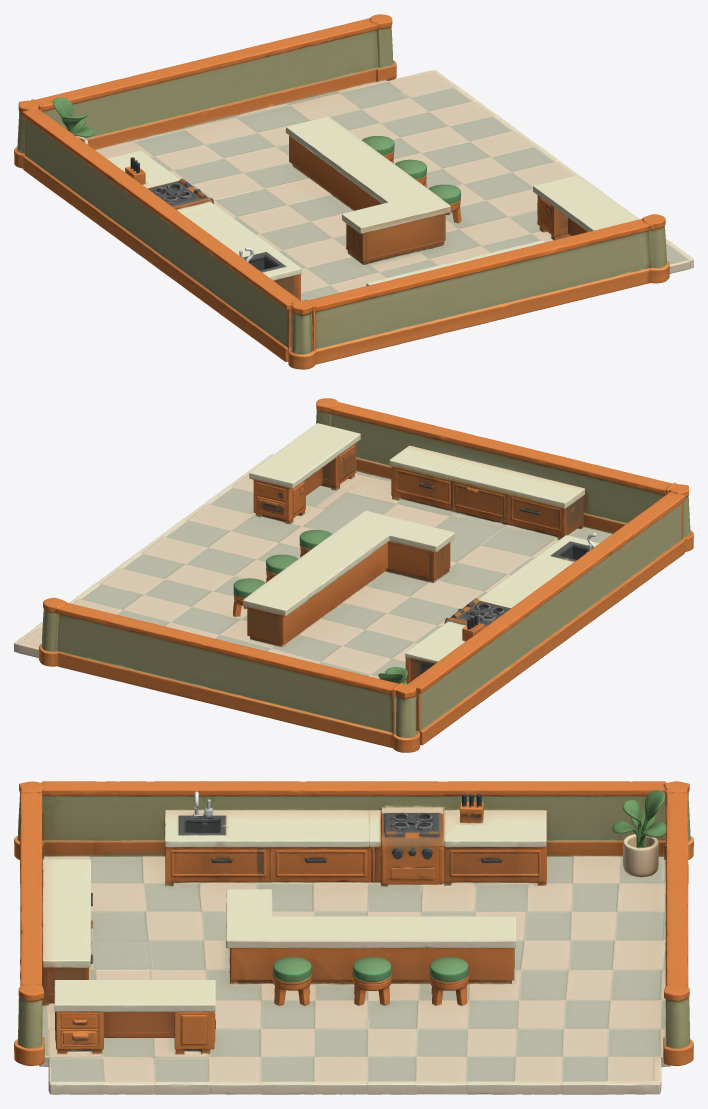
File: sushi-room-v10-fixtures-v1.glb
3 renders of one model, top to bottom at view 1: azimuth 30°, elevation 25°; view 2: azimuth 150°, elevation 25°; view 3: azimuth 270°, elevation 25°, orthographic. The views are drawn at different scales.
Visible parts, largest first — view 1: tripo_node_baa46c4d-e804-4763-b705-cc7467c62be8; view 2: tripo_node_baa46c4d-e804-4763-b705-cc7467c62be8; view 3: tripo_node_baa46c4d-e804-4763-b705-cc7467c62be8.
Part boxes in pixels (box(x1,y1,x2,y2)): tripo_node_baa46c4d-e804-4763-b705-cc7467c62be8: box(14, 14, 693, 369); tripo_node_baa46c4d-e804-4763-b705-cc7467c62be8: box(14, 398, 693, 752); tripo_node_baa46c4d-e804-4763-b705-cc7467c62be8: box(14, 781, 693, 1094).
Bounding box in the file's own units: 6 × 0.9982 × 7.25.
Materials: 2 (2 with a texture image).
